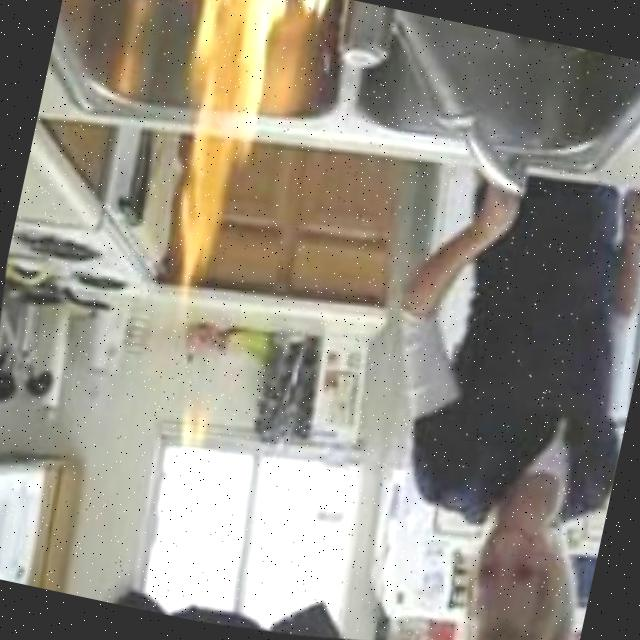fire: (97, 0, 352, 328)
